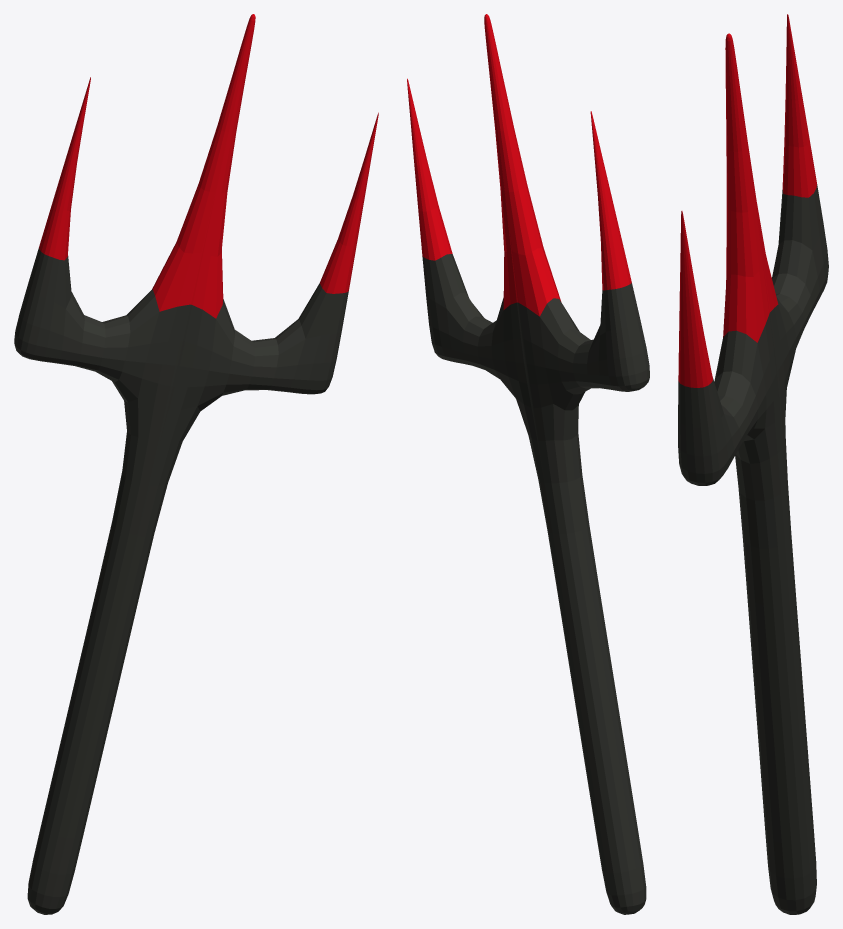
File: collectable1.fbx
3 views of the same model, side by side, from view 1: azimuth 30°, elevation 25°; view 2: azimuth 150°, elevation 25°; view 3: azimuth 270°, elevation 25° (orthographic). The views are drawn at different scales.
Visible parts, largest first — view 1: Cube; view 2: Cube; view 3: Cube.
Boxes of the visible parts, <box> form: Cube: <box>14,14,378,914</box>; Cube: <box>407,14,649,914</box>; Cube: <box>678,14,828,914</box>.
Bounding box in the file's own units: 67.35 × 184 × 25.83.
